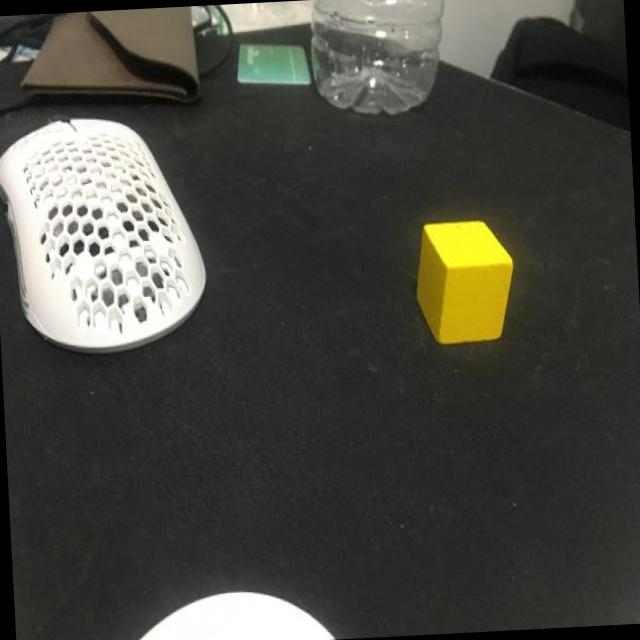yellow: (413, 219, 518, 345)
